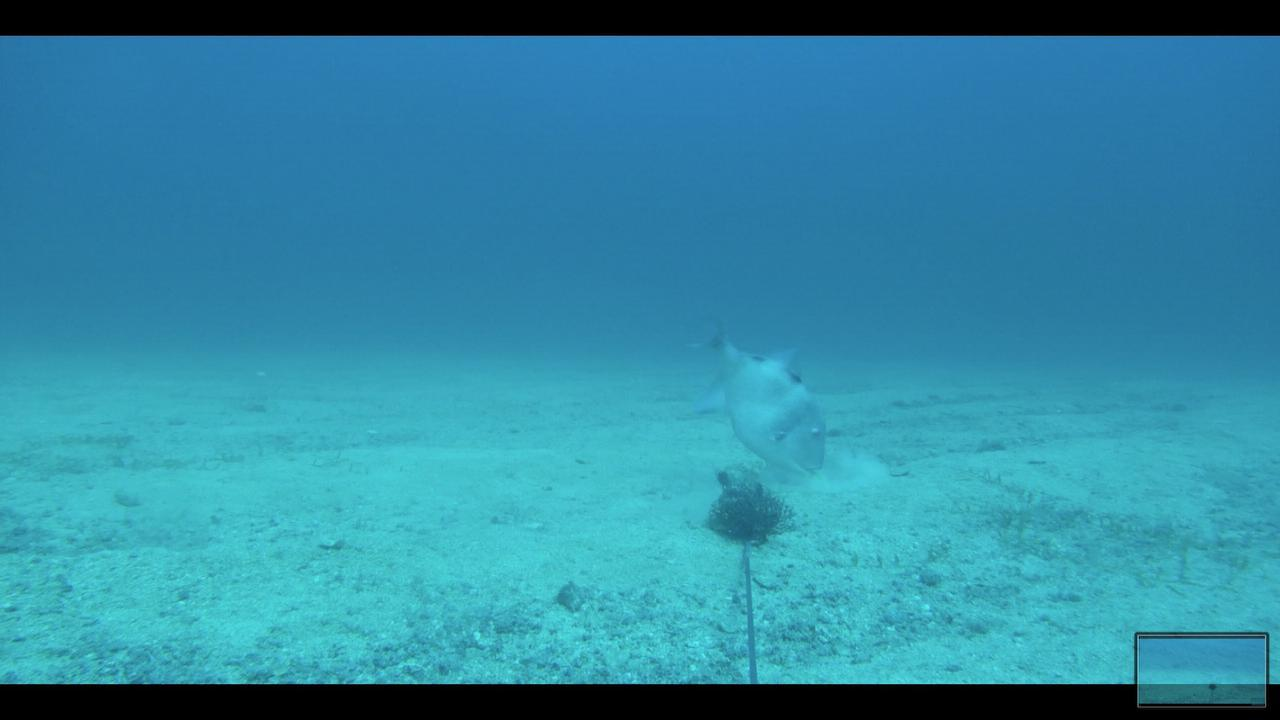balistes: (689, 314, 836, 486)
